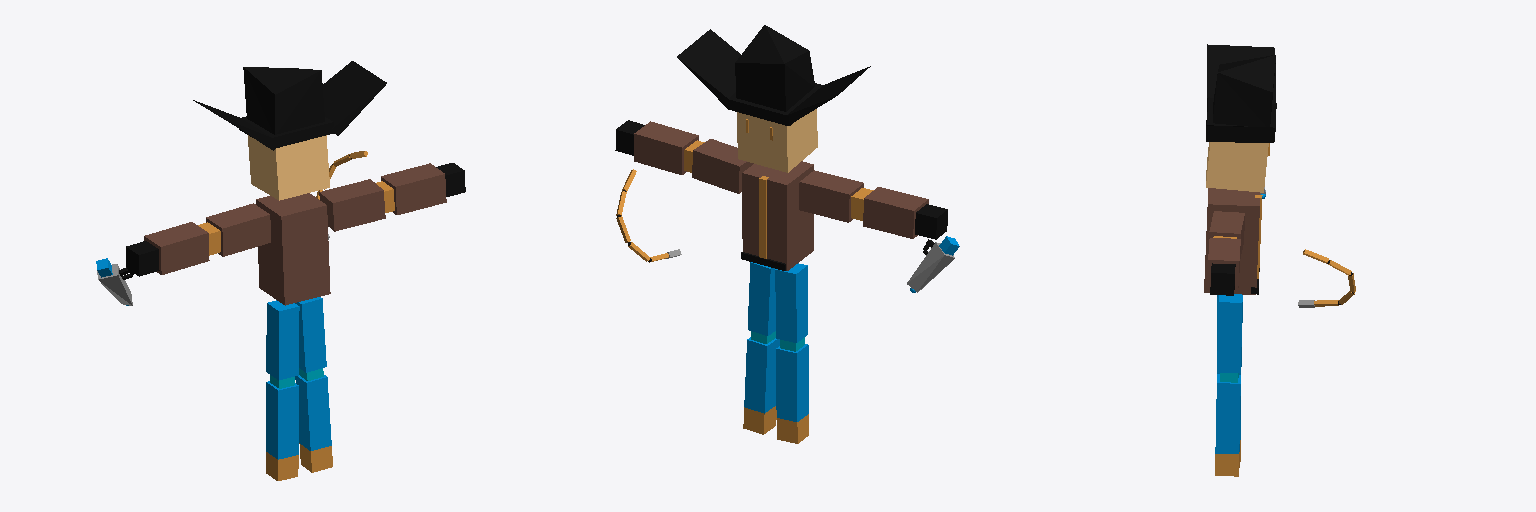
3 views of the same model, side by side, from view 1: azimuth 30°, elevation 25°; view 2: azimuth 150°, elevation 25°; view 3: azimuth 270°, elevation 25° (orthographic).
Parts seen in each view (by area): view 1: group[number redacted], group[number redacted], group[number redacted], group[number redacted], group[number redacted], group[number redacted], group[number redacted], group[number redacted], group[number redacted], group[number redacted], group[number redacted], group[number redacted] (+7 smaller); view 2: group[number redacted], group[number redacted], group[number redacted], group[number redacted], group[number redacted], group[number redacted], group[number redacted], group[number redacted], group[number redacted], group[number redacted], group[number redacted], group[number redacted] (+9 smaller); view 3: group[number redacted], group[number redacted], group[number redacted], group[number redacted], group[number redacted], group[number redacted], group[number redacted], group[number redacted], group[number redacted], group[number redacted], group[number redacted], group[number redacted].
Boxes of the visible parts, <box> form: group[number redacted]: <box>256,193,330,305</box>; group[number redacted]: <box>243,67,324,134</box>; group[number redacted]: <box>248,135,329,200</box>; group[number redacted]: <box>323,61,386,135</box>; group[number redacted]: <box>319,179,385,231</box>; group[number redacted]: <box>266,300,299,380</box>; group[number redacted]: <box>266,381,298,459</box>; group[number redacted]: <box>381,163,446,214</box>; group[number redacted]: <box>144,222,209,274</box>; group[number redacted]: <box>206,203,270,256</box>; group[number redacted]: <box>295,375,331,450</box>; group[number redacted]: <box>295,297,326,372</box>; group[number redacted]: <box>742,161,813,270</box>; group[number redacted]: <box>735,25,814,111</box>; group[number redacted]: <box>737,109,817,172</box>; group[number redacted]: <box>677,29,740,108</box>; group[number redacted]: <box>775,263,807,342</box>; group[number redacted]: <box>776,344,808,421</box>; group[number redacted]: <box>799,170,863,222</box>; group[number redacted]: <box>863,187,928,238</box>; group[number redacted]: <box>634,121,698,174</box>; group[number redacted]: <box>692,139,753,193</box>; group[number redacted]: <box>744,337,779,413</box>; group[number redacted]: <box>748,262,775,335</box>; group[number redacted]: <box>1213,55,1275,126</box>; group[number redacted]: <box>1206,142,1268,192</box>; group[number redacted]: <box>1204,188,1259,294</box>; group[number redacted]: <box>1217,294,1242,372</box>; group[number redacted]: <box>1215,374,1240,453</box>; group[number redacted]: <box>1207,44,1275,104</box>; group[number redacted]: <box>1206,125,1274,142</box>; group[number redacted]: <box>1207,238,1240,289</box>; group[number redacted]: <box>1209,211,1244,258</box>; group[number redacted]: <box>1298,249,1355,307</box>; group[number redacted]: <box>1210,263,1235,295</box>; group[number redacted]: <box>1215,452,1239,476</box>.
Size of the model in its own units: 2.71 by 2.95 by 1.02.